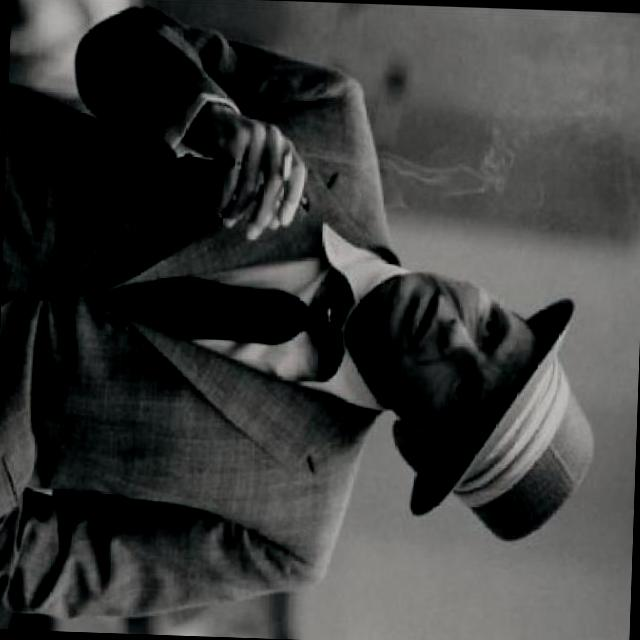cigarette: (280, 140, 293, 186)
